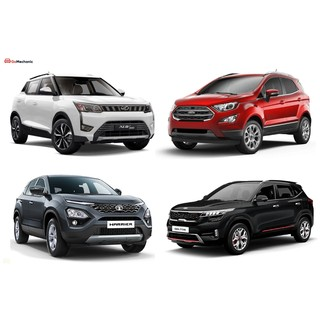car: (9, 72, 154, 156), (169, 71, 311, 155), (14, 175, 153, 258), (167, 180, 314, 255)
